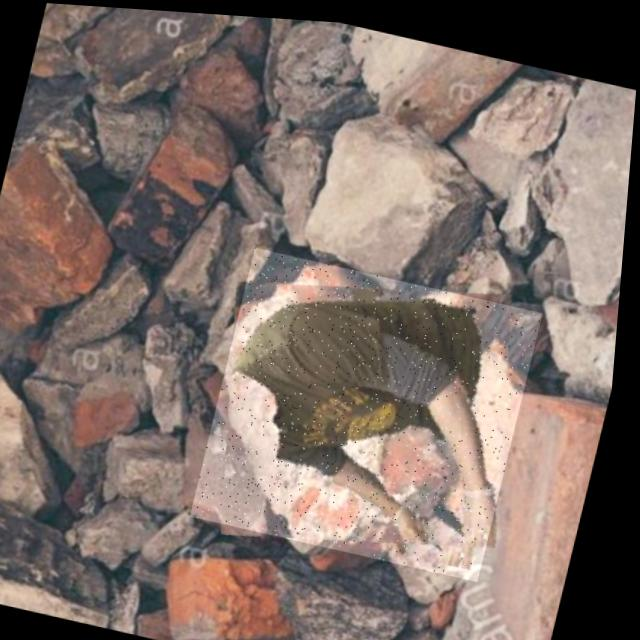Person in Rubble: (196, 241, 550, 576)
